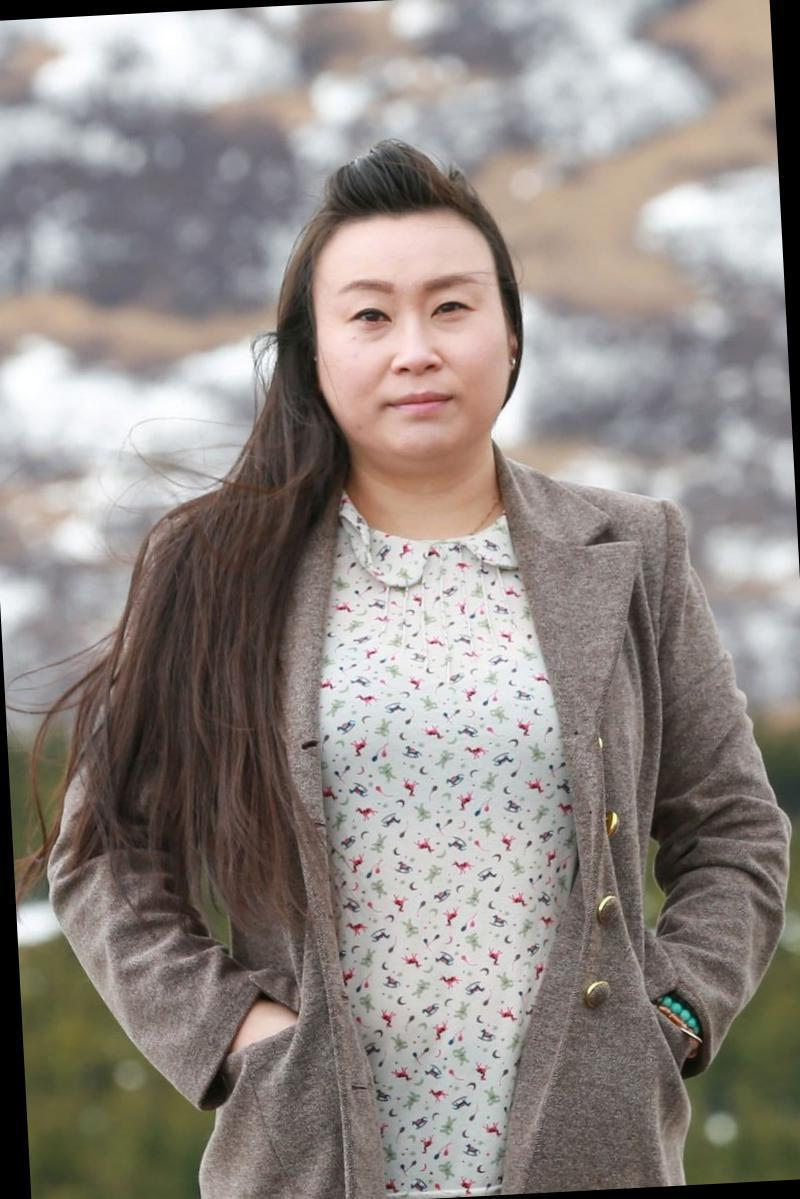Sober: (316, 231, 501, 454)
